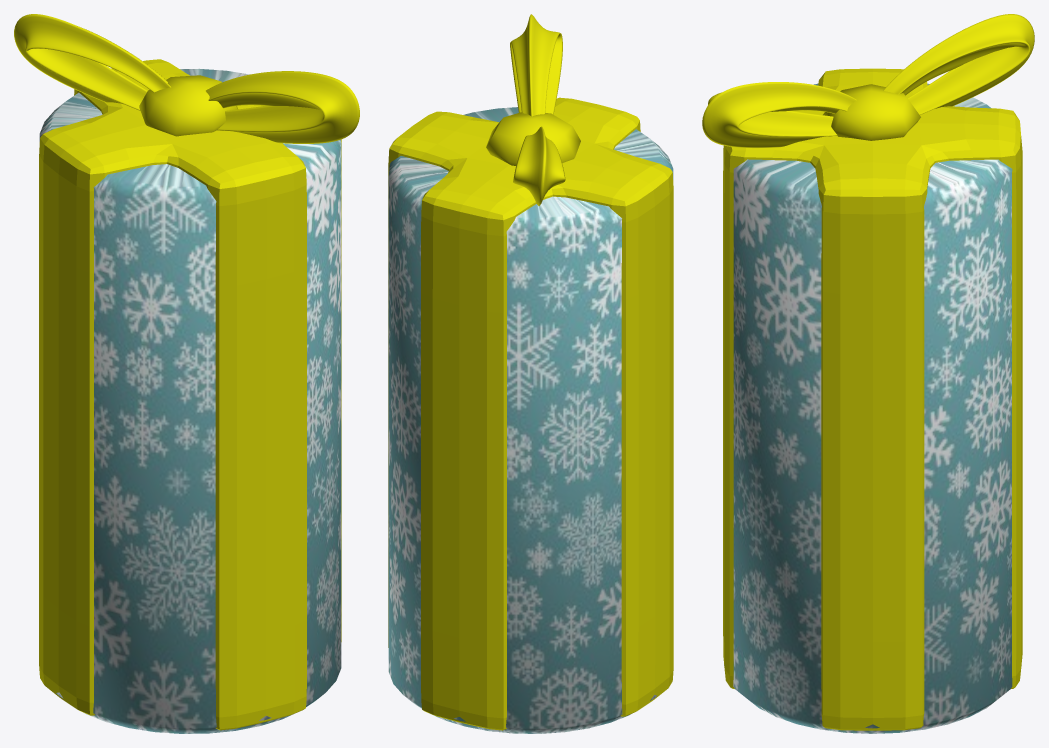
File: CylinderGift.glb
3 views of the same model, side by side, from view 1: azimuth 30°, elevation 25°; view 2: azimuth 150°, elevation 25°; view 3: azimuth 270°, elevation 25° (orthographic). The views are drawn at different scales.
Parts seen in each view (by area): view 1: gift_cylinder_merged; view 2: gift_cylinder_merged; view 3: gift_cylinder_merged.
Part boxes in pixels (x1,y1,x2,y2): gift_cylinder_merged: (14,14,359,733); gift_cylinder_merged: (388,14,673,733); gift_cylinder_merged: (702,14,1034,733).
Size of the model in its own units: 1.36 by 3.11 by 1.51.
2 materials, 1 textured.
